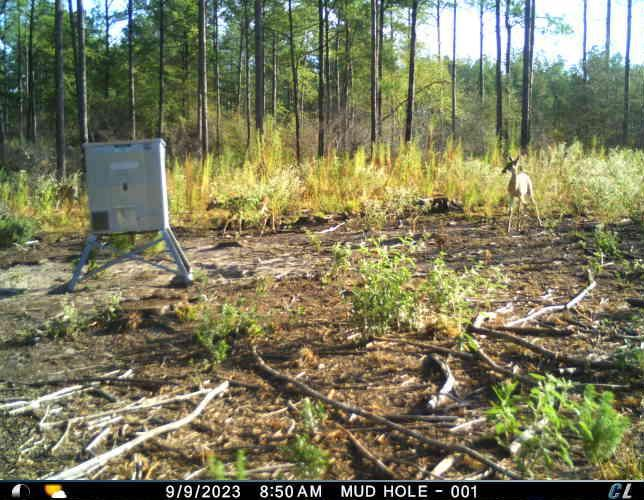Deer: (499, 154, 545, 233)
